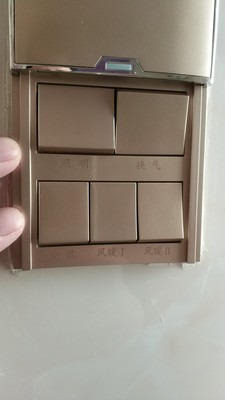switch: (32, 75, 121, 163), (110, 83, 193, 160), (33, 176, 93, 256), (83, 178, 143, 250), (134, 176, 189, 246)
